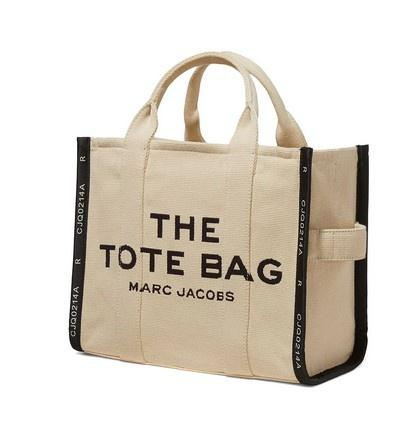MARC-JACOBS: (129, 281, 234, 302)
